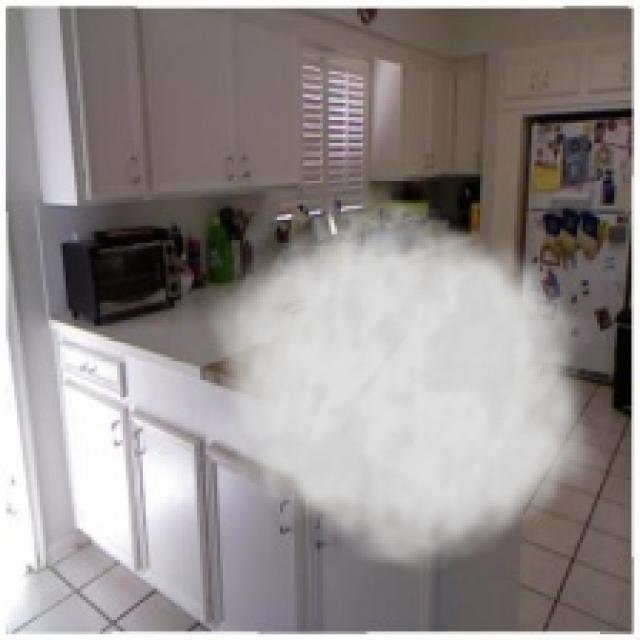smoke: (203, 180, 606, 580)
